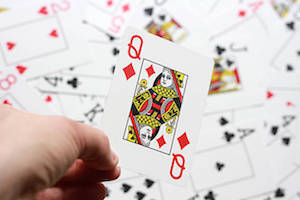AceOfClubs: (193, 124, 283, 200)
AceOfSpades: (249, 109, 300, 176)
JackOfClubs: (209, 35, 265, 104)
JackOfSpades: (133, 1, 202, 46)
QueenOfDiamonds: (98, 24, 214, 183)
